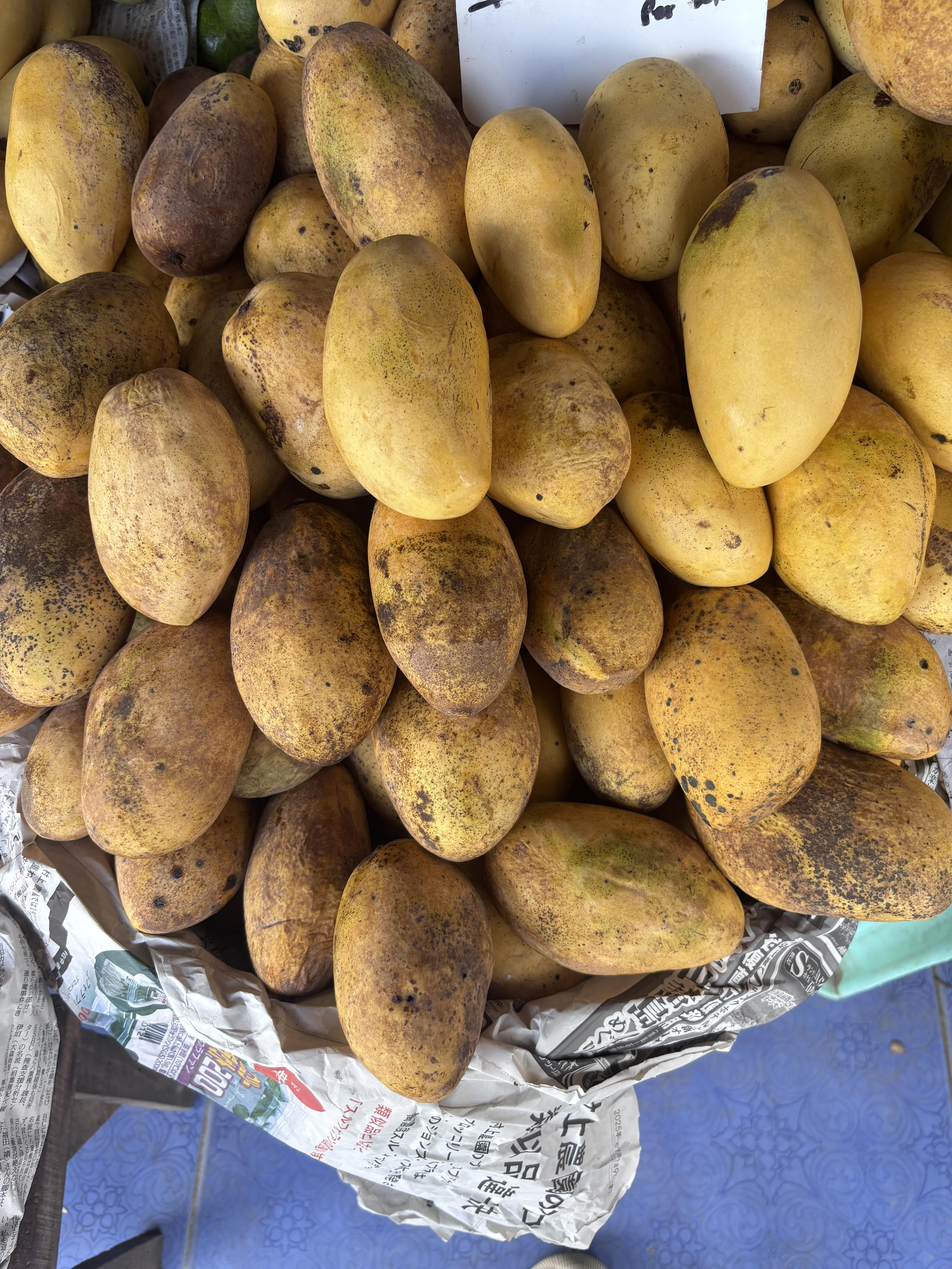mango: (678, 166, 862, 488), (323, 235, 492, 519), (645, 585, 821, 829), (333, 838, 493, 1102), (88, 368, 250, 626), (465, 107, 602, 337), (132, 73, 276, 277)
occluded: (687, 741, 952, 921), (484, 803, 744, 975), (302, 22, 477, 277), (231, 503, 396, 765), (82, 613, 253, 856), (766, 387, 935, 625), (0, 272, 179, 478), (368, 497, 527, 718), (5, 41, 148, 282), (578, 58, 729, 281), (786, 72, 952, 274), (374, 660, 539, 861), (222, 272, 366, 499), (765, 586, 952, 760), (0, 470, 133, 710), (616, 392, 772, 586), (244, 765, 370, 996), (515, 505, 663, 694), (489, 334, 630, 528), (186, 288, 288, 509), (858, 253, 952, 470), (115, 798, 257, 934), (459, 856, 588, 1001), (564, 262, 680, 402), (560, 676, 675, 813), (724, 0, 832, 144), (844, 0, 952, 124), (244, 173, 357, 283), (21, 694, 88, 841), (250, 41, 315, 179), (164, 252, 252, 353), (522, 647, 576, 802), (902, 468, 952, 634), (257, 0, 400, 58), (391, 0, 462, 114), (233, 726, 319, 798), (344, 734, 402, 830), (814, 0, 863, 73), (0, 0, 42, 78), (33, 0, 90, 48), (0, 161, 24, 264), (894, 231, 942, 254)
